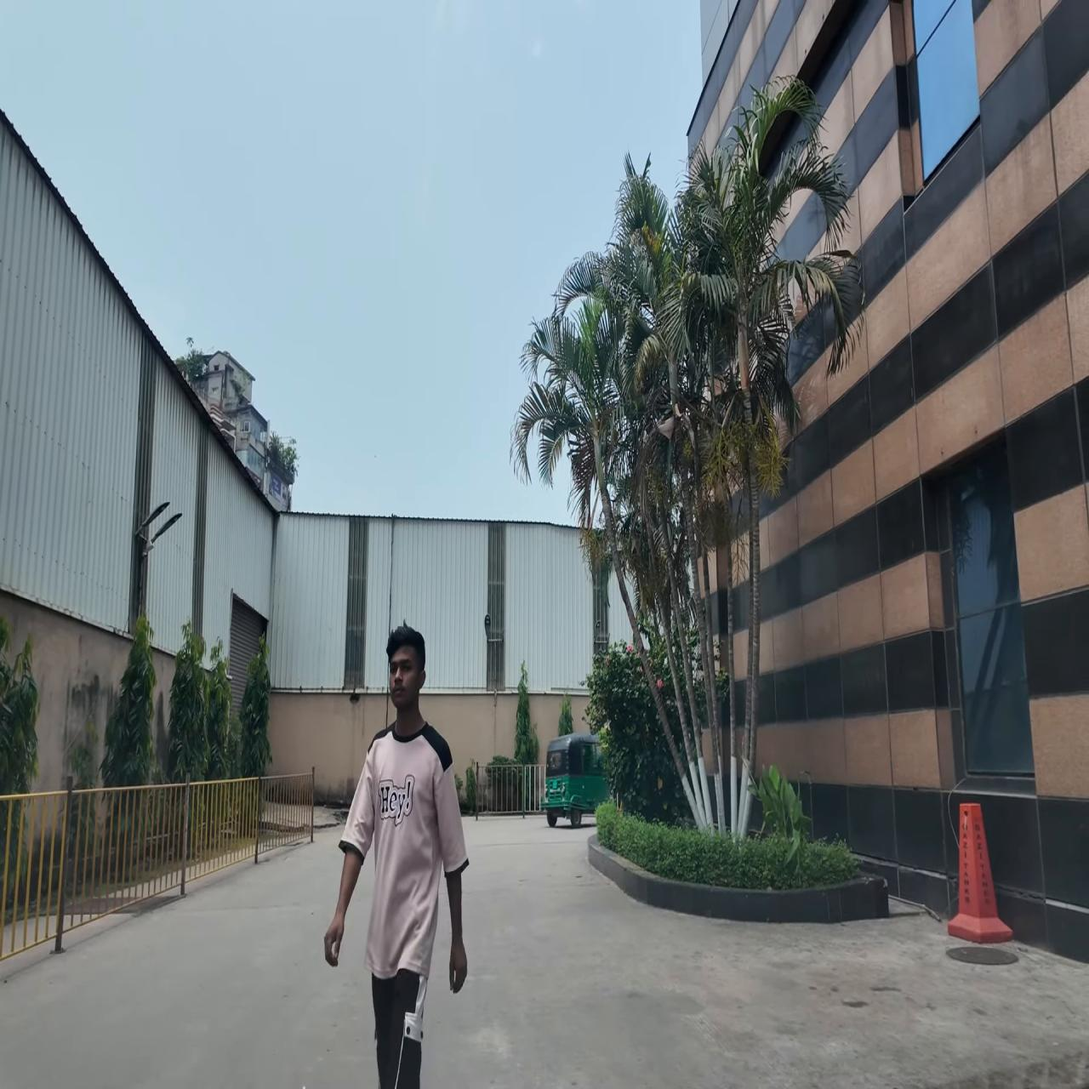person: (324, 620, 469, 1089)
